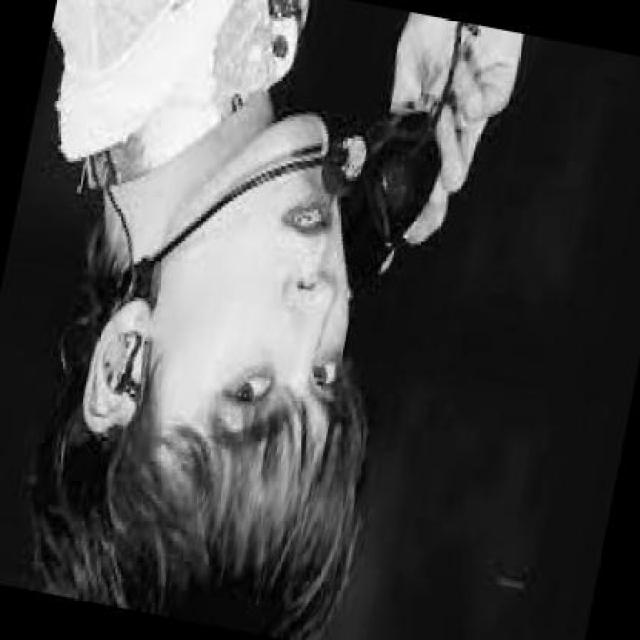earphone: (96, 334, 161, 393)
